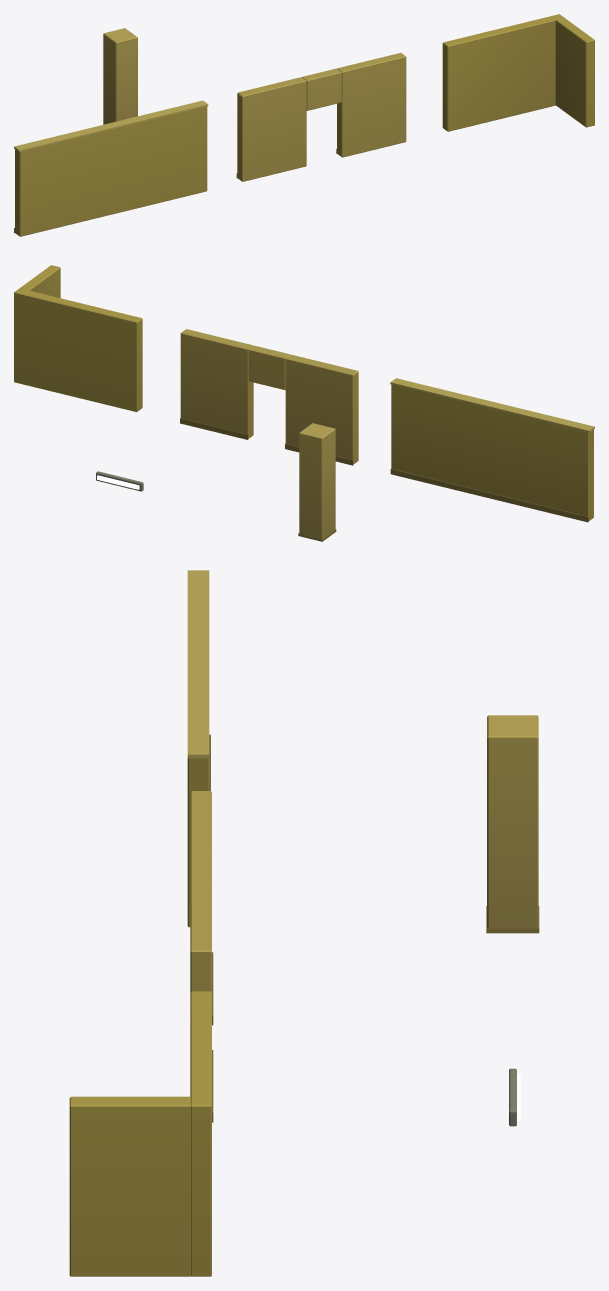
The model's file is backrooms.glb.
3 views of the same model, one above another, from view 1: azimuth 30°, elevation 25°; view 2: azimuth 150°, elevation 25°; view 3: azimuth 270°, elevation 25° (orthographic). The views are drawn at different scales.
Visible parts, largest first — view 1: BR_WallPanel__Body, BR_CornerPartition__Body, BR_DoorPartition__Body, BR_Pillar__Body; view 2: BR_WallPanel__Body, BR_DoorPartition__Body, BR_CornerPartition__Body, BR_Pillar__Body; view 3: BR_CornerPartition__Body, BR_Pillar__Body, BR_WallPanel__Body, BR_DoorPartition__Body.
Part boxes in pixels (x1=…): BR_WallPanel__Body: x1=14, y1=100, x2=208, y2=236; BR_CornerPartition__Body: x1=442, y1=14, x2=594, y2=131; BR_DoorPartition__Body: x1=236, y1=53, x2=406, y2=181; BR_Pillar__Body: x1=103, y1=28, x2=137, y2=124; BR_WallPanel__Body: x1=390, y1=378, x2=594, y2=522; BR_DoorPartition__Body: x1=180, y1=329, x2=358, y2=465; BR_CornerPartition__Body: x1=14, y1=265, x2=142, y2=412; BR_Pillar__Body: x1=298, y1=423, x2=336, y2=541; BR_CornerPartition__Body: x1=69, y1=991, x2=211, y2=1276; BR_Pillar__Body: x1=486, y1=715, x2=539, y2=933; BR_WallPanel__Body: x1=187, y1=570, x2=210, y2=927; BR_DoorPartition__Body: x1=190, y1=791, x2=213, y2=1122.
Bounding box in the file's own units: 93.1 × 16 × 34.65.
